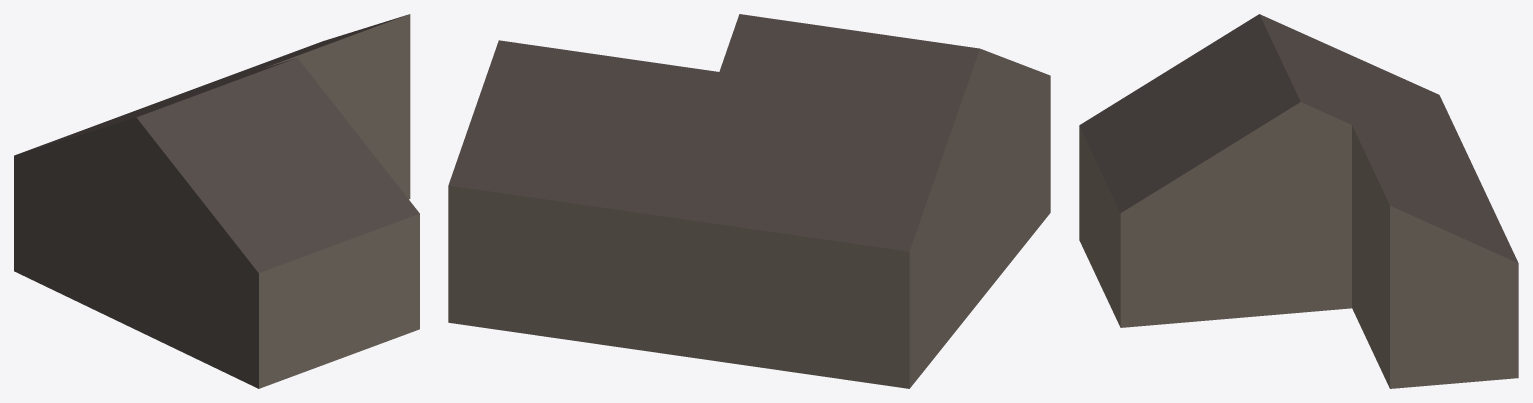
3 views of the same model, side by side, from view 1: azimuth 30°, elevation 25°; view 2: azimuth 150°, elevation 25°; view 3: azimuth 270°, elevation 25° (orthographic). The views are drawn at different scales.
Parts seen in each view (by area): view 1: HP-w1376988694; view 2: HP-w1376988694; view 3: HP-w1376988694.
Part boxes in pixels (x1=…): HP-w1376988694: x1=14, y1=14, x2=419, y2=388; HP-w1376988694: x1=448, y1=14, x2=1050, y2=388; HP-w1376988694: x1=1079, y1=14, x2=1518, y2=388.
Bounding box in the file's own units: 20.15 × 11.03 × 20.86.
